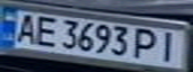3: (109, 24, 136, 58), (57, 18, 81, 51)
6: (75, 20, 96, 53)
9: (90, 22, 112, 56)
A: (9, 11, 42, 44)
E: (30, 15, 60, 47)
I: (154, 29, 187, 63)
P: (130, 26, 163, 61)
